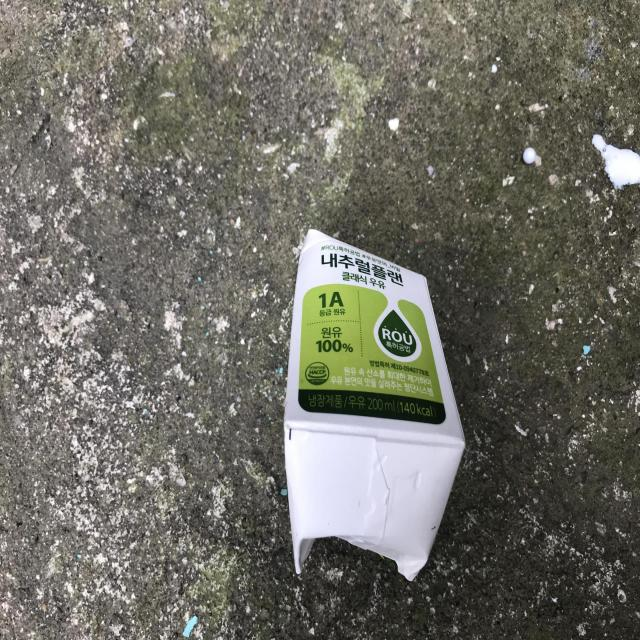paperpack: (284, 230, 465, 580)
